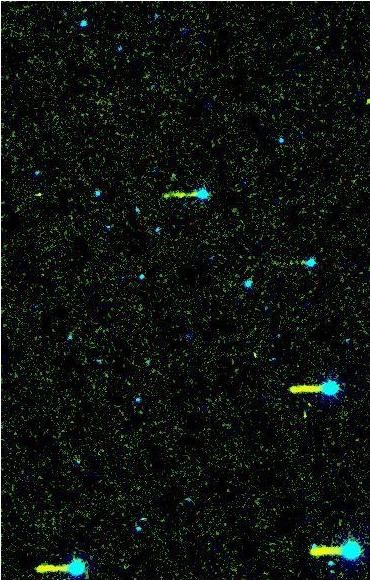star: (24, 178, 54, 208)
